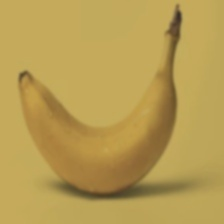banana: (30, 43, 184, 183)
